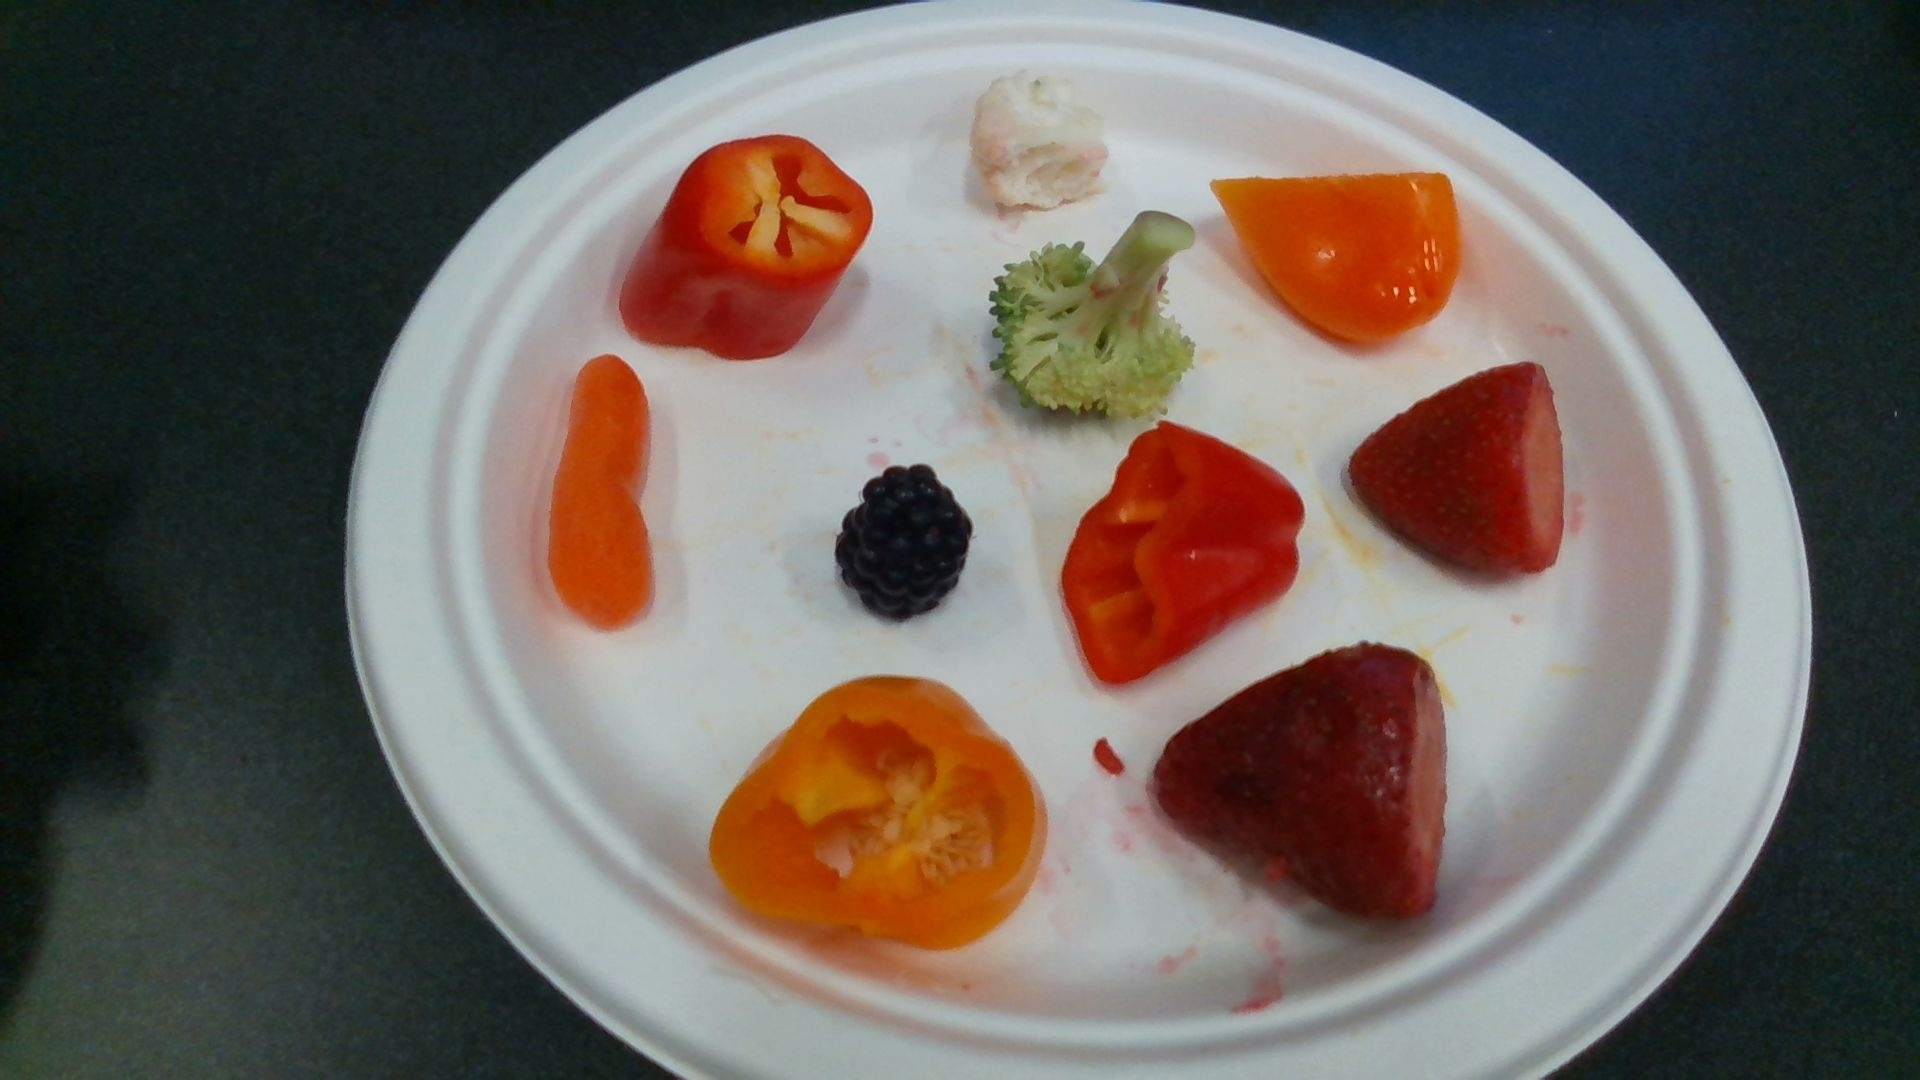bell_pepper: (712, 678, 1048, 949), (1064, 423, 1305, 680), (620, 138, 872, 356), (1215, 175, 1457, 345)
blackberry: (837, 465, 971, 622)
broccoli: (994, 214, 1195, 421)
carrot: (549, 356, 655, 633)
cauliflower: (975, 70, 1109, 210)
strawberry: (1154, 647, 1443, 923), (1350, 365, 1564, 575)
